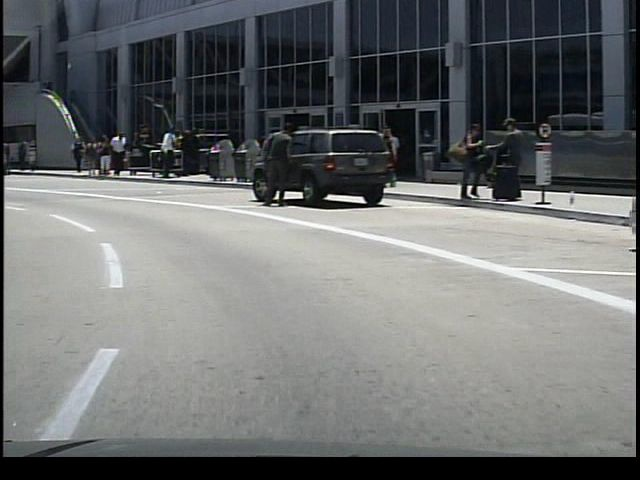person: (483, 114, 525, 200), (260, 116, 291, 213), (448, 116, 482, 203), (373, 119, 403, 187), (153, 125, 175, 181), (105, 129, 128, 179), (90, 132, 110, 181), (65, 132, 84, 176)
